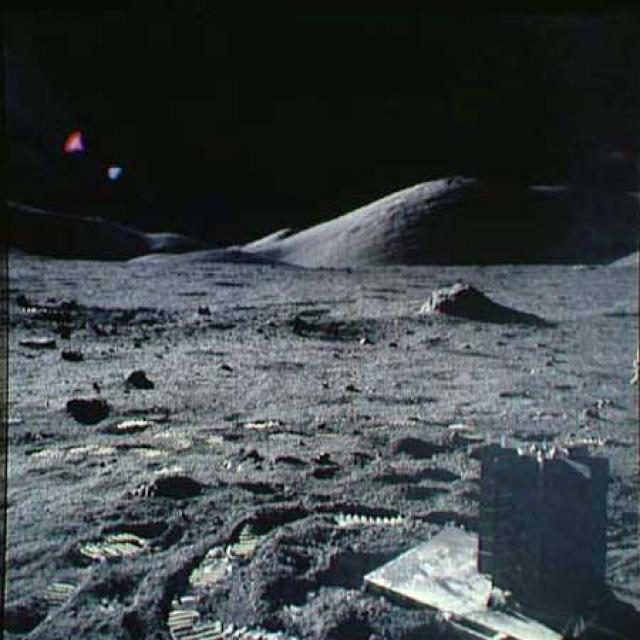artifact: (363, 414, 634, 638)
crater: (290, 315, 424, 344)
rock: (419, 279, 487, 317), (63, 394, 109, 418), (118, 364, 152, 390), (62, 343, 86, 364)
